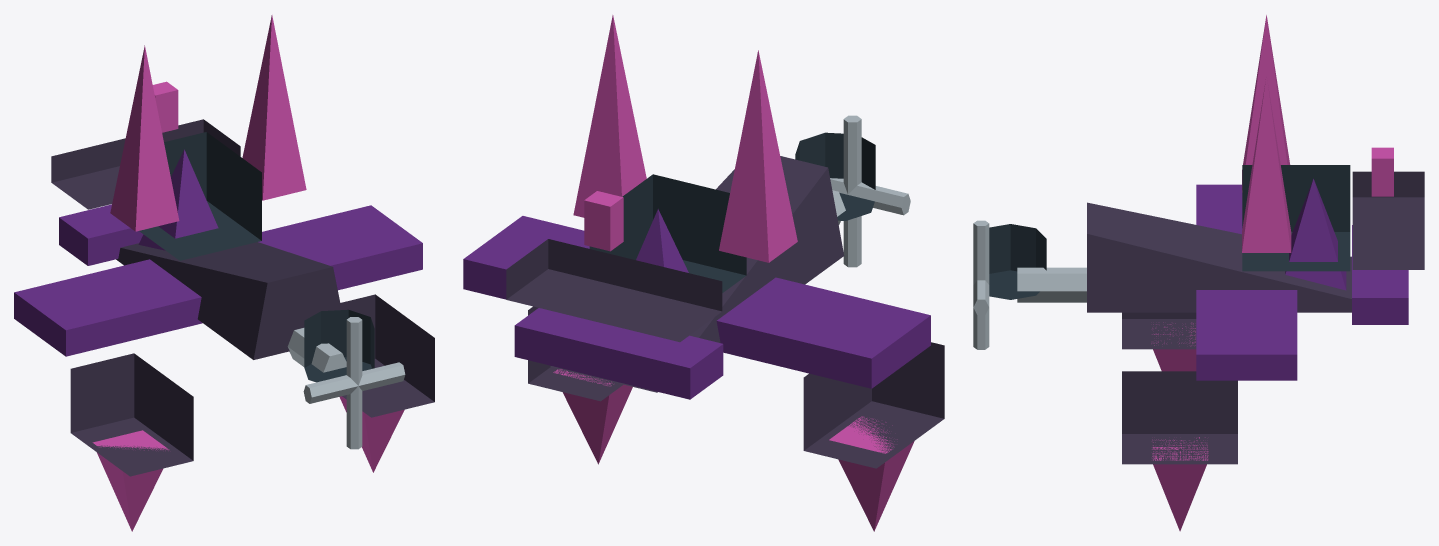
File: bomber.obj
3 views of the same model, side by side, from view 1: azimuth 30°, elevation 25°; view 2: azimuth 150°, elevation 25°; view 3: azimuth 270°, elevation 25° (orthographic). The views are drawn at different scales.
Parts seen in each view (by area): view 1: air; view 2: air; view 3: air.
Boxes of the visible parts, box(x1,y1,x2,y2) form: air: box(14, 15, 434, 531); air: box(463, 15, 944, 531); air: box(973, 15, 1424, 531).
Bounding box in the file's own units: 1.63 × 1.92 × 1.82.
